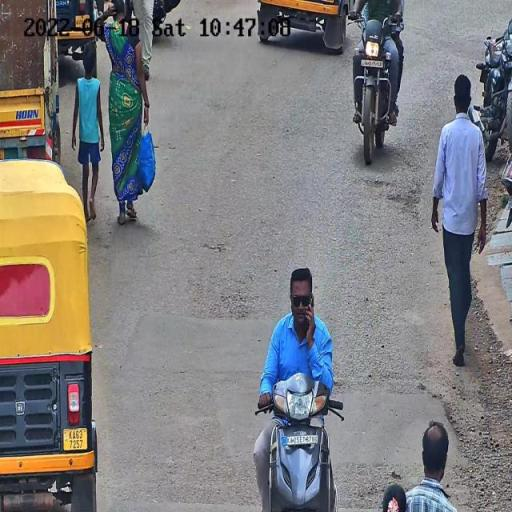using mobile: (298, 284, 320, 336)
